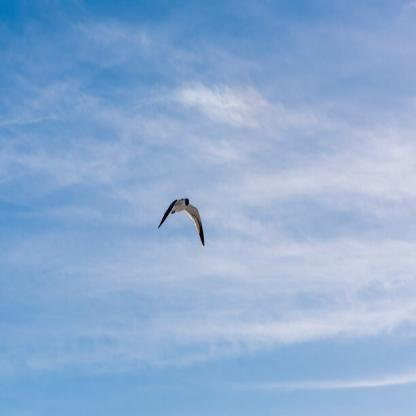bird: (152, 164, 218, 260)
